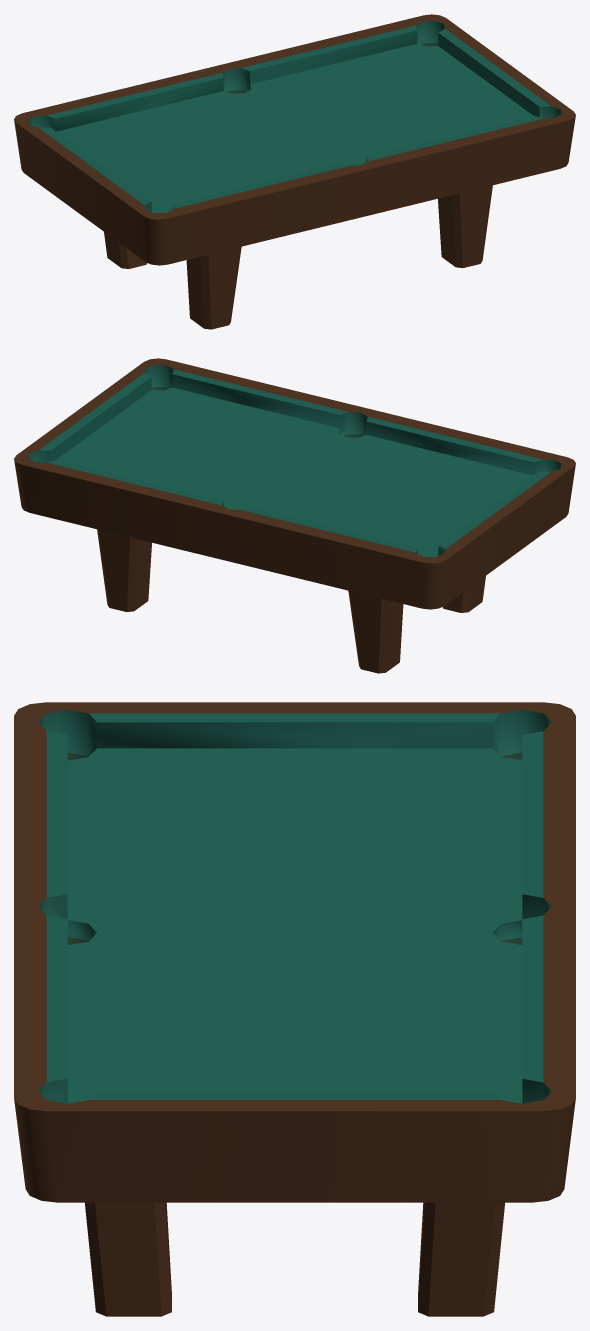
3 renders of one model, top to bottom at view 1: azimuth 30°, elevation 25°; view 2: azimuth 150°, elevation 25°; view 3: azimuth 270°, elevation 25°, orthographic. The views are drawn at different scales.
Visible parts, largest first — view 1: PoolTableTop, Feets2; view 2: PoolTableTop, Feets2; view 3: PoolTableTop, Feets2.
Boxes of the visible parts, x1,y1,x2,y2 form: PoolTableTop: [14, 14, 575, 265]; Feets2: [104, 185, 492, 329]; PoolTableTop: [14, 358, 575, 609]; Feets2: [97, 529, 485, 673]; PoolTableTop: [14, 702, 575, 1202]; Feets2: [85, 1202, 504, 1316].
Size of what is drawn, in the model's own units: 3.06 by 0.9683 by 1.78.
1 material, 1 textured.
